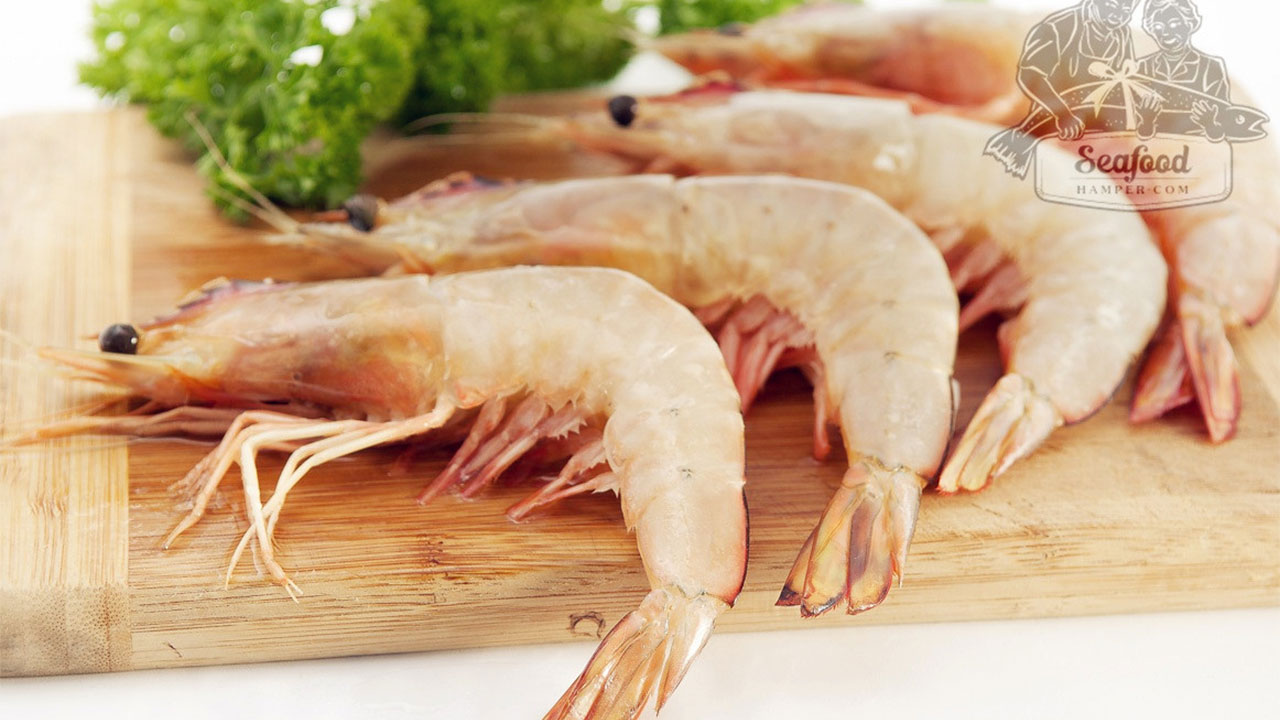White Prawn: (93, 267, 756, 603), (591, 79, 1169, 456)
